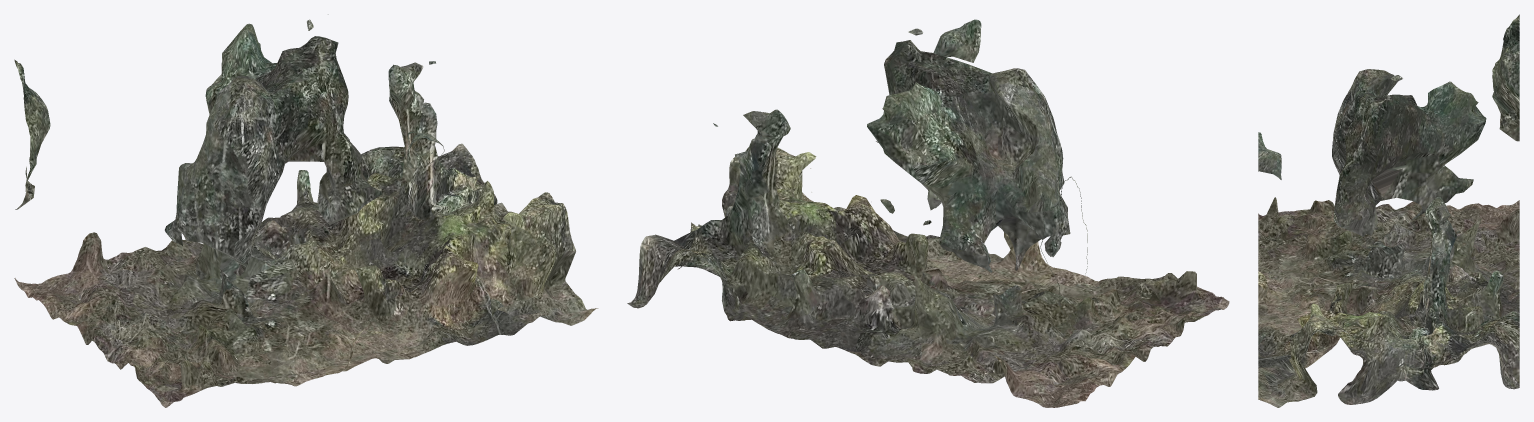
The model's file is BlockYAYY_L21_104.glb.
3 renders of one model, left to right at view 1: azimuth 30°, elevation 25°; view 2: azimuth 150°, elevation 25°; view 3: azimuth 270°, elevation 25°, orthographic. The views are drawn at different scales.
Visible parts, largest first — view 1: rtc; view 2: rtc; view 3: rtc.
Boxes of the visible parts, bbox=[...] form: rtc: bbox=[14, 14, 598, 407]; rtc: bbox=[627, 19, 1229, 407]; rtc: bbox=[1258, 14, 1519, 407].
Size of the model in its own units: 16.64 by 10.93 by 10.26.
Materials: 5 (5 with a texture image).
